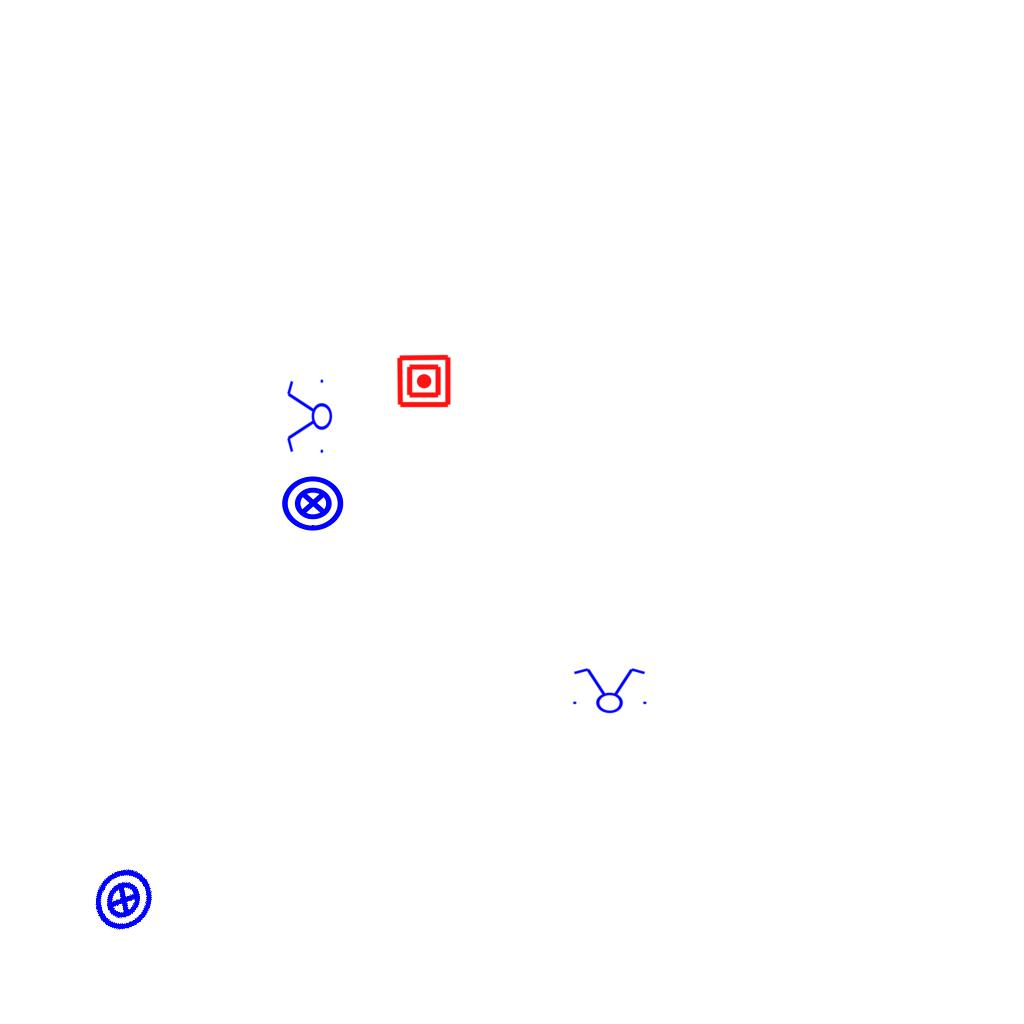NAM-Nichtautomatischer_Melder: (396, 353, 452, 409)
Serienschalter: (285, 375, 333, 459), (567, 666, 651, 714)
Taster_beleuchtet: (79, 855, 169, 945), (280, 470, 346, 536)
